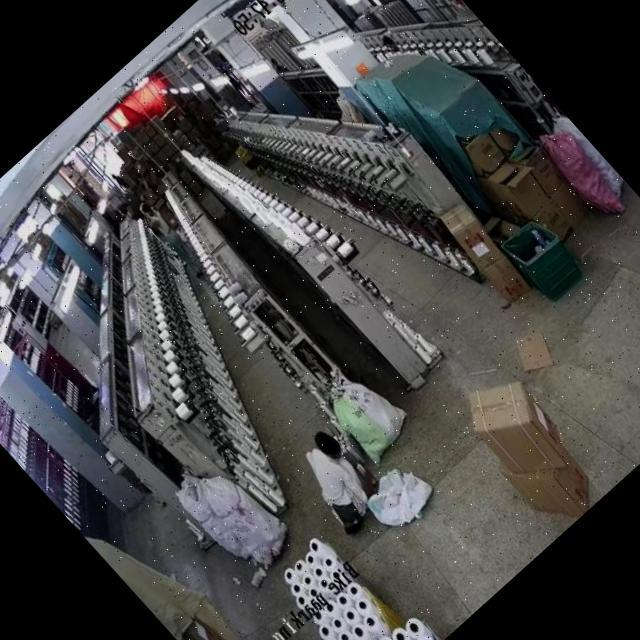person: (274, 415, 382, 527), (133, 198, 218, 288)
